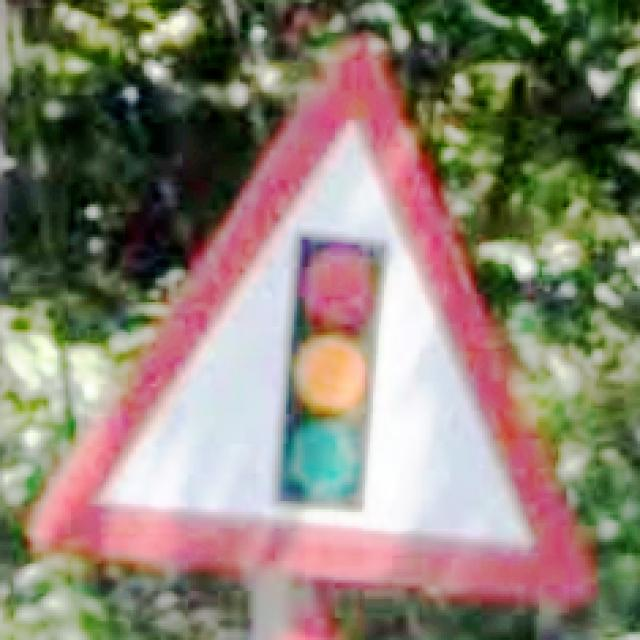signalahead: (25, 42, 592, 603)
